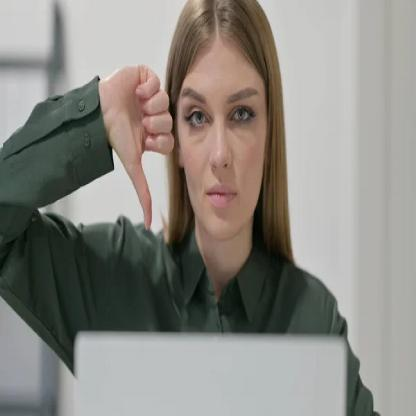thumb_down: (103, 62, 176, 232)
